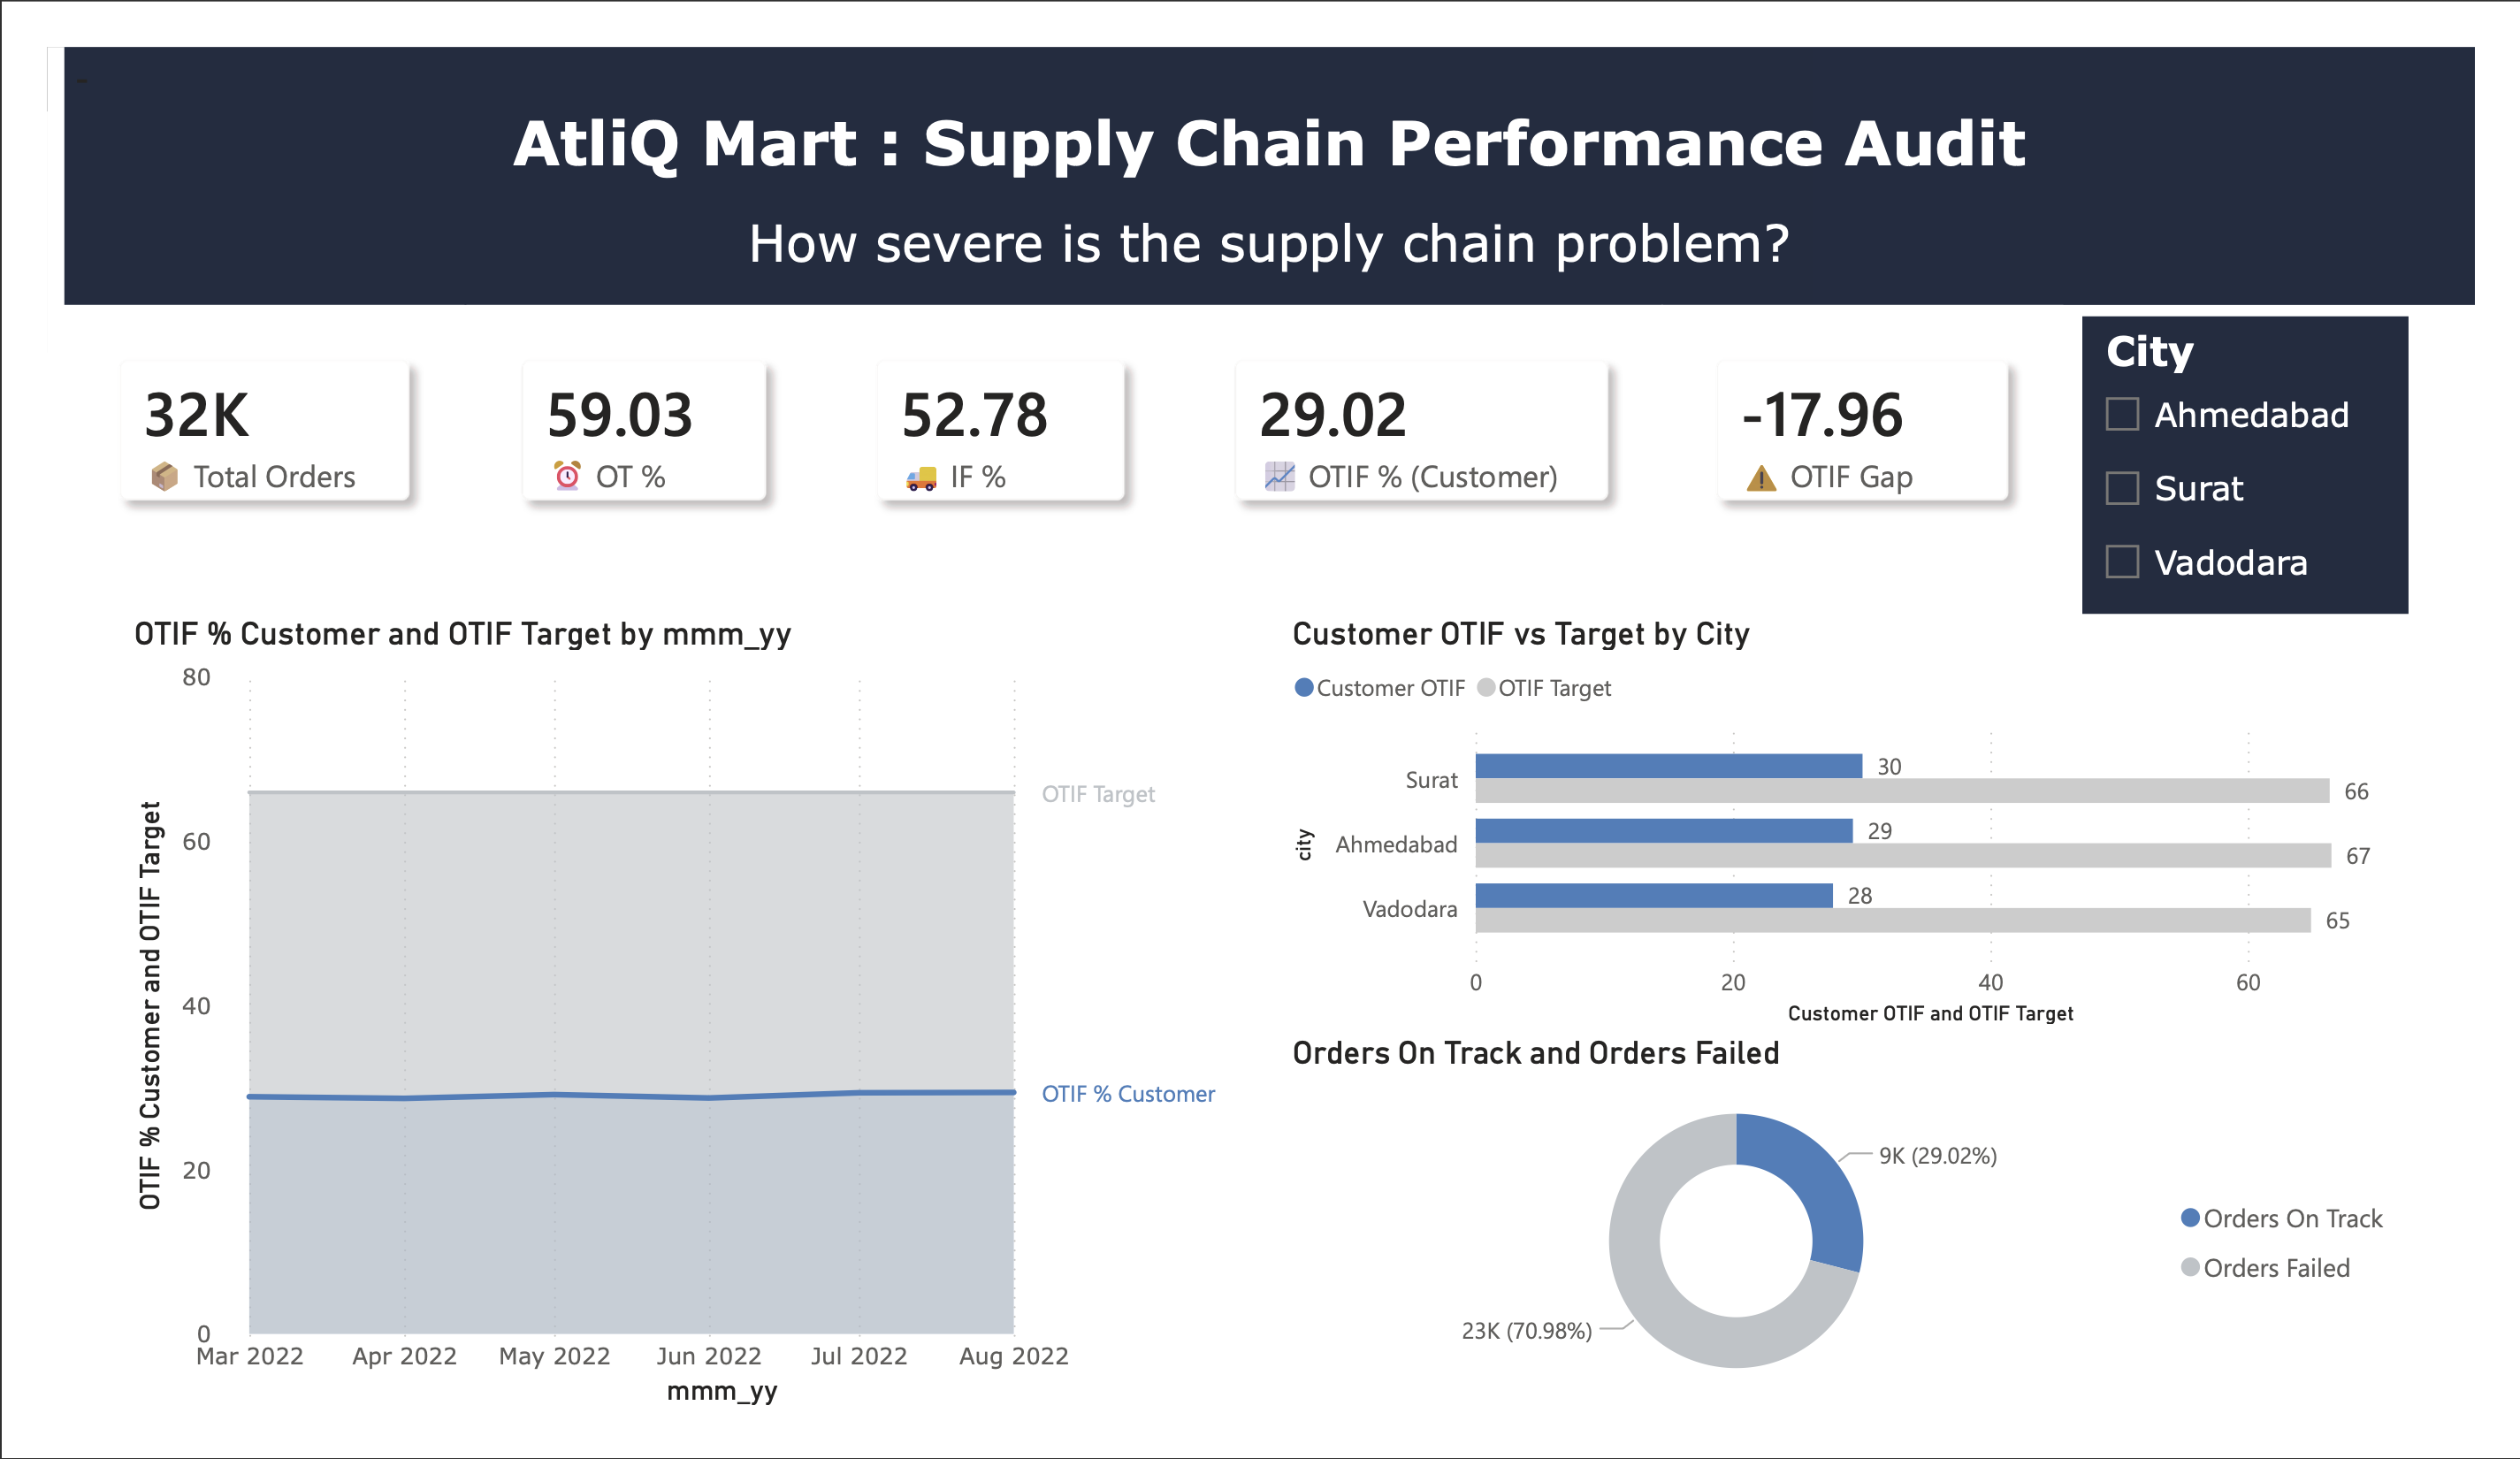

The page's visual inventory and layout, read from the dashboard file:
{"tool":"powerbi","page":{"name":"Executive Summary","canvas":[1280,720],"ordinal":0},"visuals":[{"type":"textbox","title":"-","box":[9.4,0,1270.6,136.1],"z":0},{"type":"cardVisual","fields":{"Data":["fact_orders_aggregate.Total Orders"]},"box":[8.9,136,211.4,131.5],"z":1000},{"type":"cardVisual","fields":{"Data":["fact_orders_aggregate.OT %"]},"box":[220.2,136,211.4,131.5],"z":2000},{"type":"cardVisual","fields":{"Data":["fact_orders_aggregate.IF %"]},"box":[433.1,136,211.4,131.5],"z":3000},{"type":"cardVisual","fields":{"Data":["fact_orders_aggregate.OTIF %"]},"box":[644.4,136,206.9,131.5],"z":4000},{"type":"cardVisual","fields":{"Data":["fact_orders_aggregate.OTIF Gap"]},"box":[851.4,136,211.4,131.5],"z":5000},{"type":"slicer","fields":{"Values":["dim_customers.city"]},"box":[1073.1,141.9,171.5,156.7],"z":6000},{"type":"lineChart","fields":{"Category":["dim_date.mmm_yy.Variation.Date Hierarchy.Year"],"Y":["fact_orders_aggregate.OTIF %","fact_orders_aggregate.OTIF Target"]},"box":[41.4,298.6,598.6,422.7],"z":7000},{"type":"donutChart","fields":{"Y":["fact_orders_aggregate.Orders On Track","fact_orders_aggregate.Orders Failed"]},"box":[651.8,520.3,594.2,199.5],"z":8000},{"type":"clusteredBarChart","fields":{"Category":["dim_customers.city"],"Y":["fact_orders_aggregate.OTIF %","fact_orders_aggregate.OTIF Target"]},"box":[651.8,298.6,594.2,221.7],"z":9000}]}

Visuals, with their boxes in screenshot pixels (x1, y1, x2, y2), scaled from the page's 1280x720 canvas onto the 2520x1459 screenshot:
"-" textbox: bbox=(19, 0, 2519, 276)
cardVisual - fact_orders_aggregate.Total Orders: bbox=(18, 276, 434, 542)
cardVisual - fact_orders_aggregate.OT %: bbox=(433, 276, 850, 542)
cardVisual - fact_orders_aggregate.IF %: bbox=(852, 276, 1269, 542)
cardVisual - fact_orders_aggregate.OTIF %: bbox=(1269, 276, 1676, 542)
cardVisual - fact_orders_aggregate.OTIF Gap: bbox=(1676, 276, 2092, 542)
slicer - dim_customers.city: bbox=(2112, 287, 2450, 605)
lineChart - dim_date.mmm_yy.Variation.Date Hierarchy.Year x fact_orders_aggregate.OTIF %: bbox=(81, 605, 1260, 1458)
donutChart - fact_orders_aggregate.Orders On Track x fact_orders_aggregate.Orders Failed: bbox=(1283, 1054, 2453, 1458)
clusteredBarChart - dim_customers.city x fact_orders_aggregate.OTIF %: bbox=(1283, 605, 2453, 1054)
